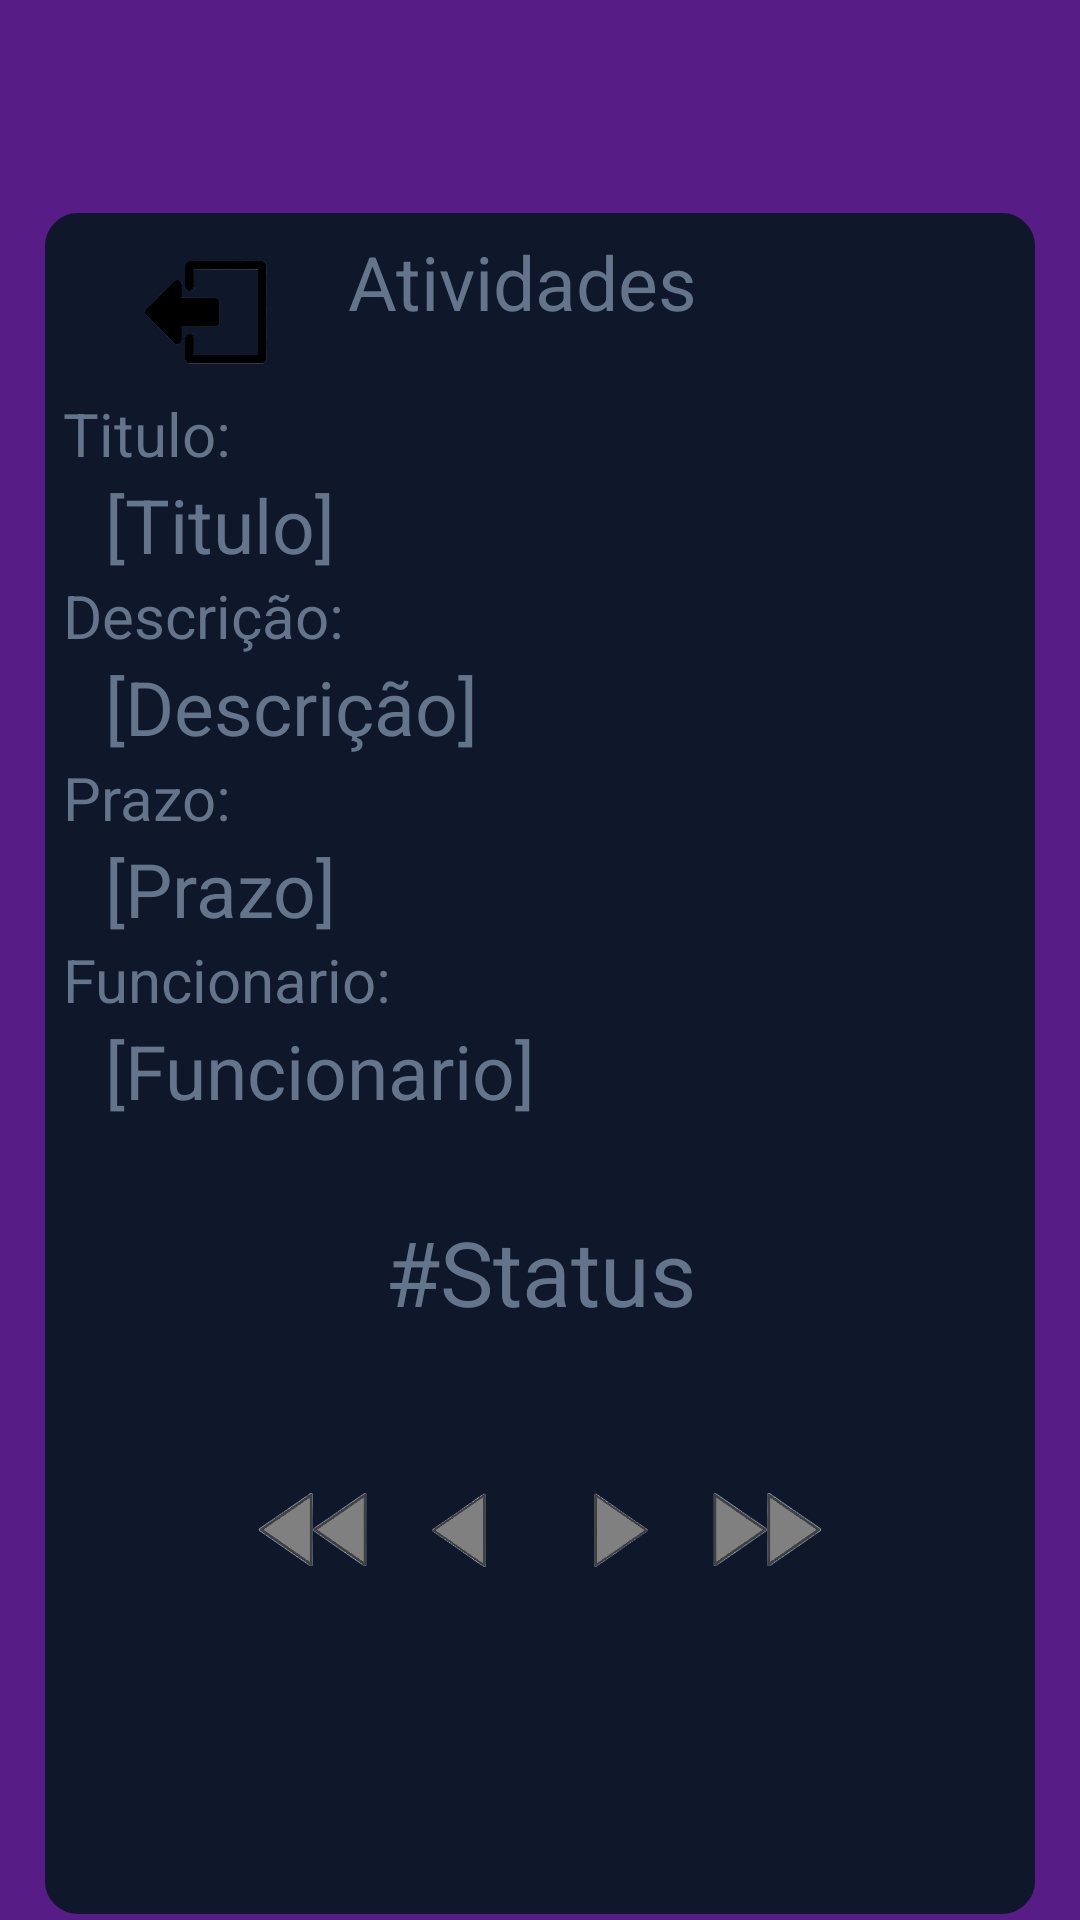

Icons on this 1080w x 1920h Android screen, each with its box as (x1, y1, x2, y2):
botao anterior: (432, 1493, 486, 1567)
botao primeiro: (259, 1493, 367, 1566)
botao proximo: (594, 1493, 648, 1567)
botao ultimo: (713, 1493, 821, 1566)
sair: (145, 261, 266, 364)
